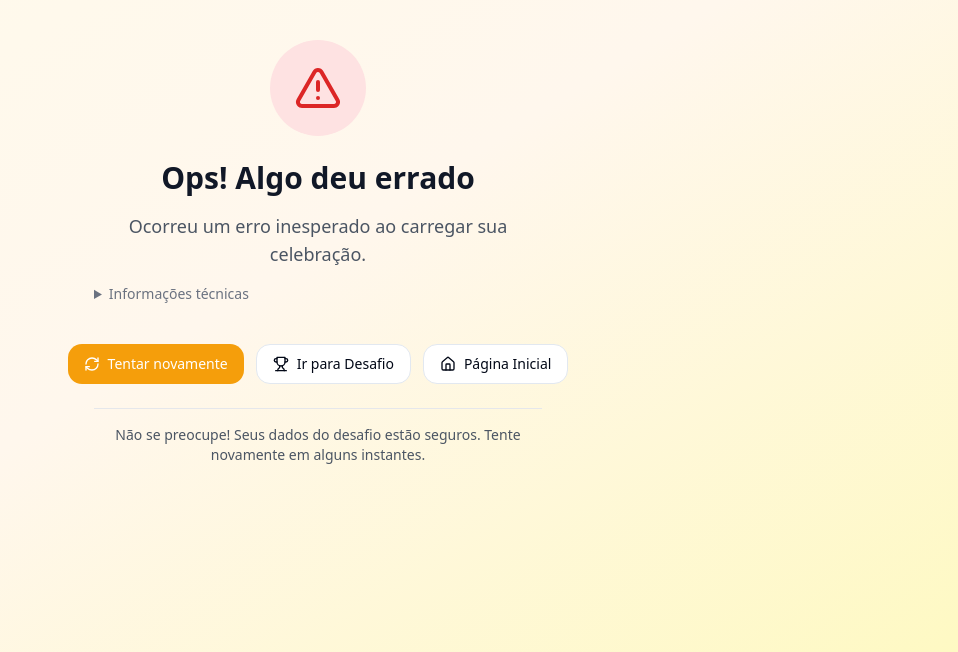
it: CelebrationErrorBoundary › shows error ID for technical support
Click the heading "Informações técnicas": (179, 293) [109,284,249,302]
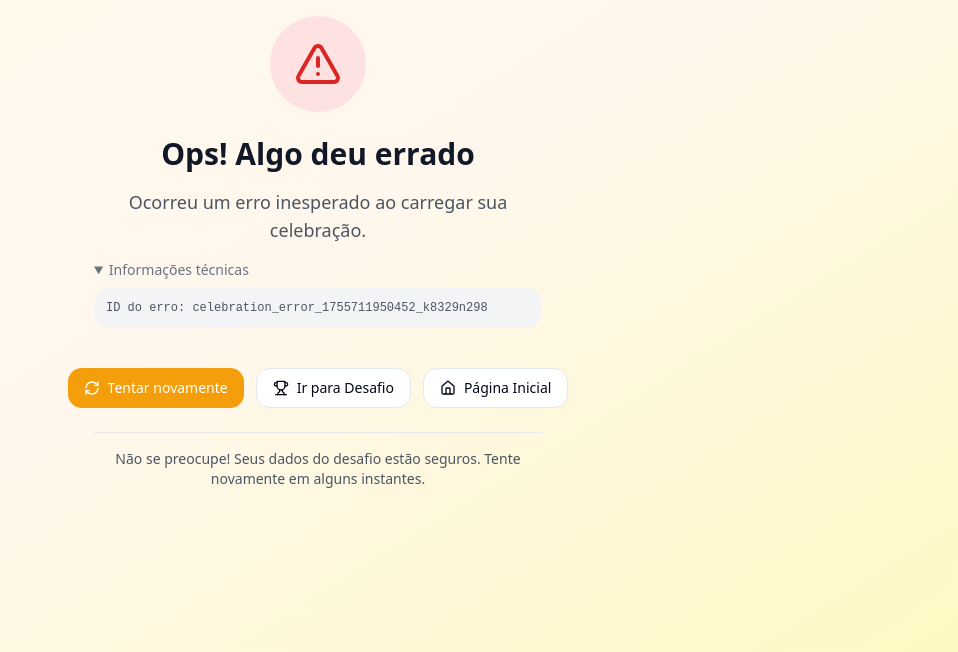
Result: the text "ID do erro: celebration_error_1755711950452_k8329n298" is shown at [106,300,530,316]
